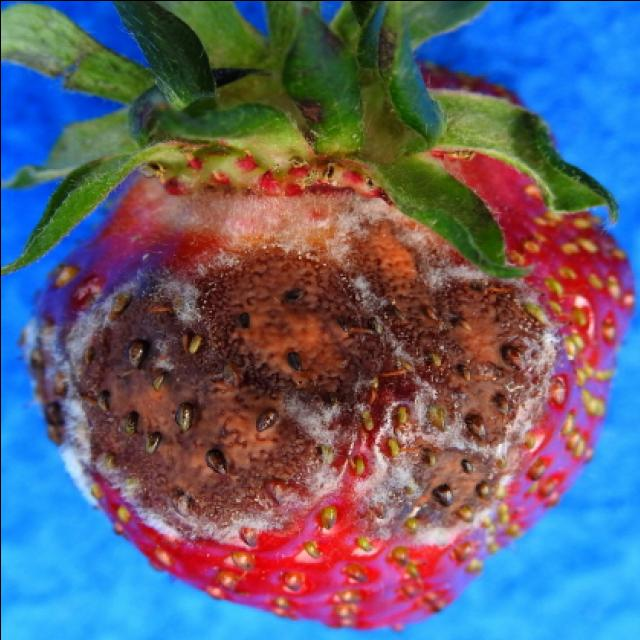Anthracnose Fruit Rot: (17, 155, 574, 556)
